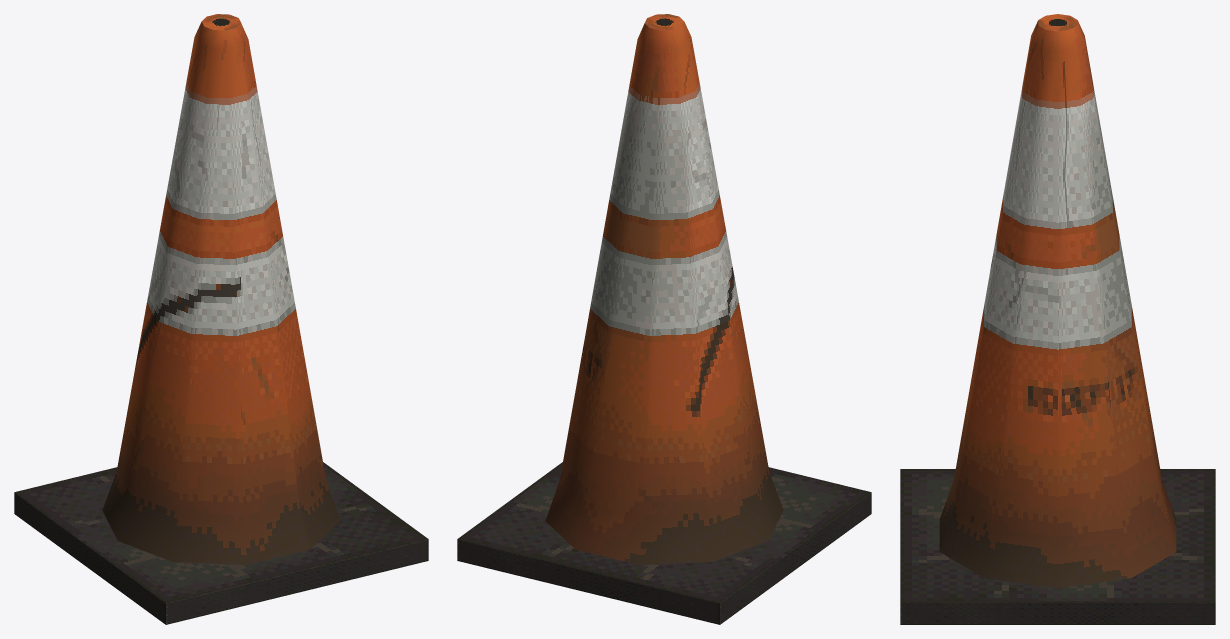
Rendered from traffic_cone.glb.
3 views of the same model, side by side, from view 1: azimuth 30°, elevation 25°; view 2: azimuth 150°, elevation 25°; view 3: azimuth 270°, elevation 25° (orthographic). The views are drawn at different scales.
Visible parts, largest first — view 1: traffic_cone; view 2: traffic_cone; view 3: traffic_cone.
Boxes of the visible parts, x1=… form: traffic_cone: x1=14, y1=14, x2=428, y2=624; traffic_cone: x1=457, y1=14, x2=871, y2=624; traffic_cone: x1=900, y1=14, x2=1215, y2=624.
Size of the model in its own units: 0.38 by 0.712 by 0.38.
1 material, 1 textured.
